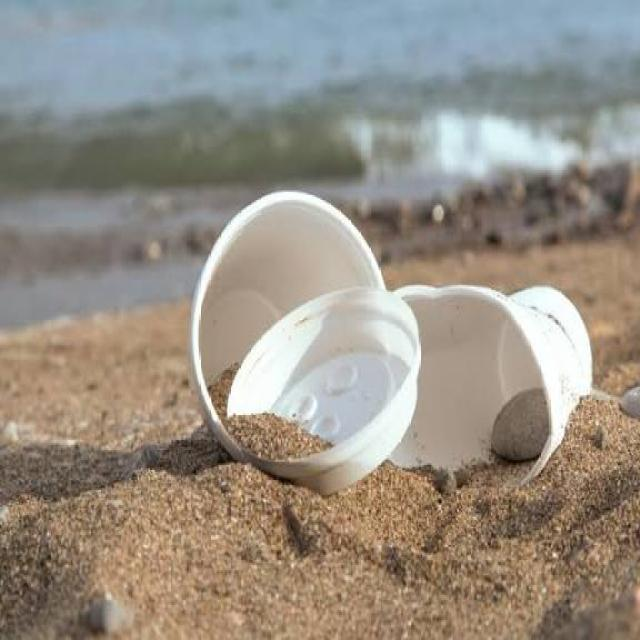styrofoam: (150, 204, 406, 540), (392, 227, 600, 544)
